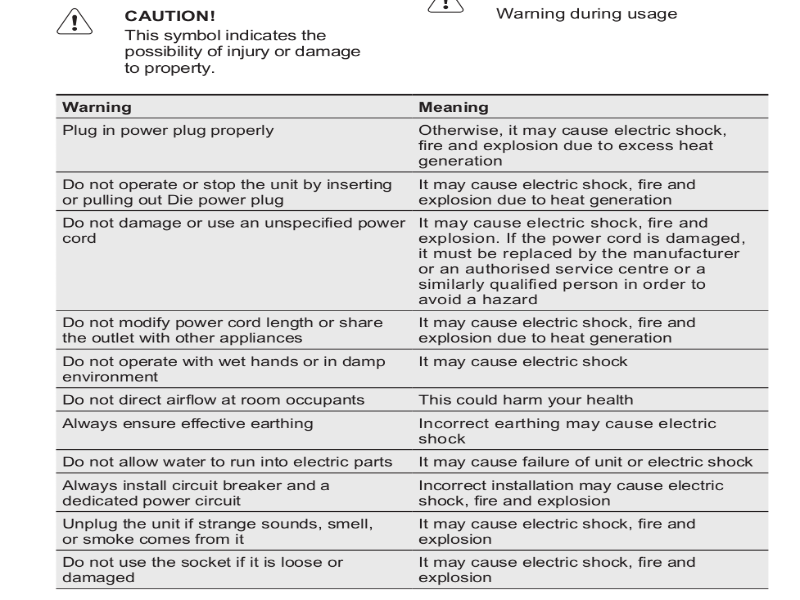borderless: (49, 85, 776, 596)
cell: (413, 216, 749, 307), (413, 122, 728, 168), (414, 513, 758, 546), (57, 215, 407, 245), (58, 176, 395, 207), (57, 353, 393, 384), (57, 313, 390, 344), (415, 479, 755, 507), (57, 516, 377, 545), (415, 177, 731, 206), (413, 315, 710, 345), (415, 416, 720, 445), (57, 555, 348, 585), (413, 556, 699, 585), (57, 479, 331, 507), (58, 453, 398, 469), (57, 392, 367, 408), (415, 454, 754, 468), (59, 121, 279, 142), (57, 416, 316, 433), (415, 391, 637, 408), (413, 354, 631, 371), (58, 97, 146, 115), (416, 96, 492, 116)
